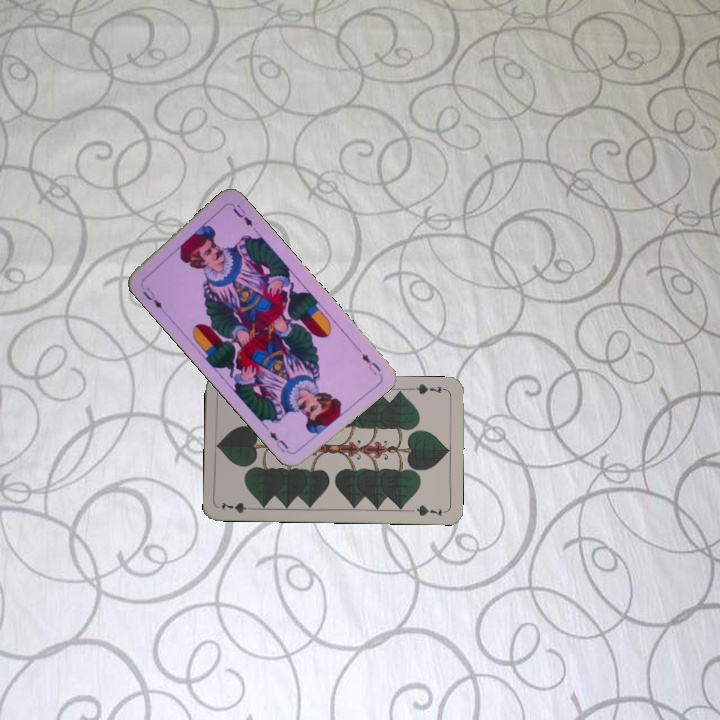EU: (138, 283, 165, 312), (358, 350, 383, 378)
G7: (217, 499, 258, 515), (408, 380, 449, 396)
